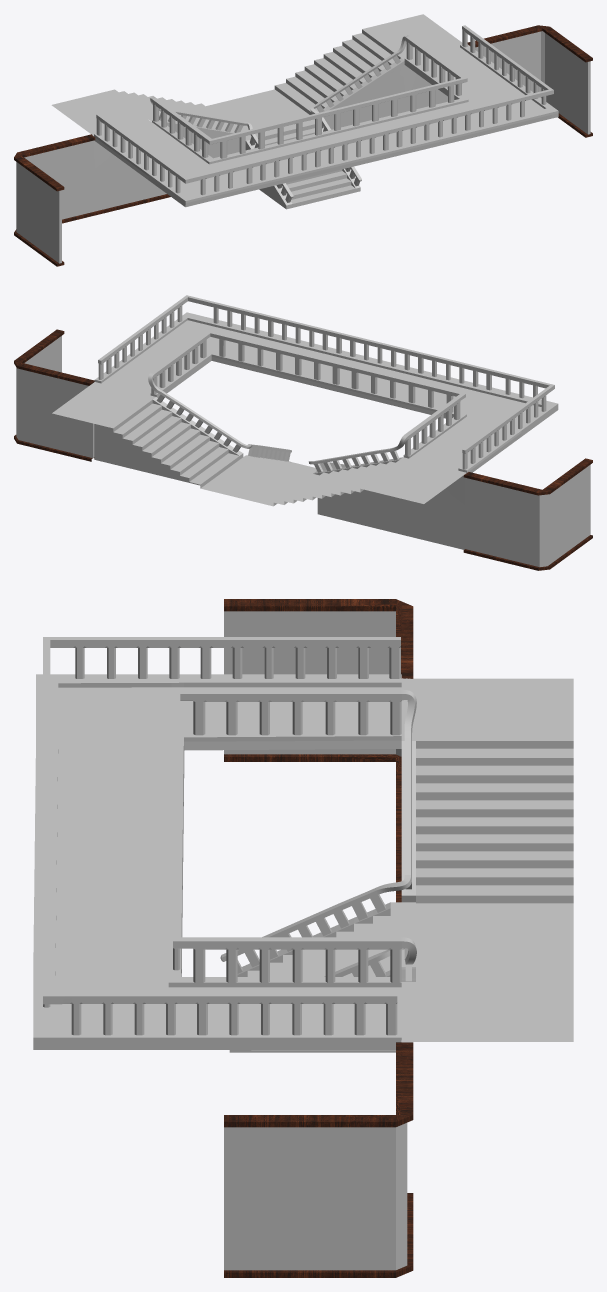
The model's file is stairs 2.fbx.
3 renders of one model, top to bottom at view 1: azimuth 30°, elevation 25°; view 2: azimuth 150°, elevation 25°; view 3: azimuth 270°, elevation 25°, orthographic. The views are drawn at different scales.
Parts seen in each view (by area): view 1: polySurface198; view 2: polySurface198; view 3: polySurface198.
Boxes of the visible parts, left/top/right/bottom form: polySurface198: left=14, top=14, right=592, bottom=266; polySurface198: left=14, top=295, right=592, bottom=570; polySurface198: left=33, top=599, right=573, bottom=1277.
Bounding box in the file's own units: 2160 × 388 × 943.
